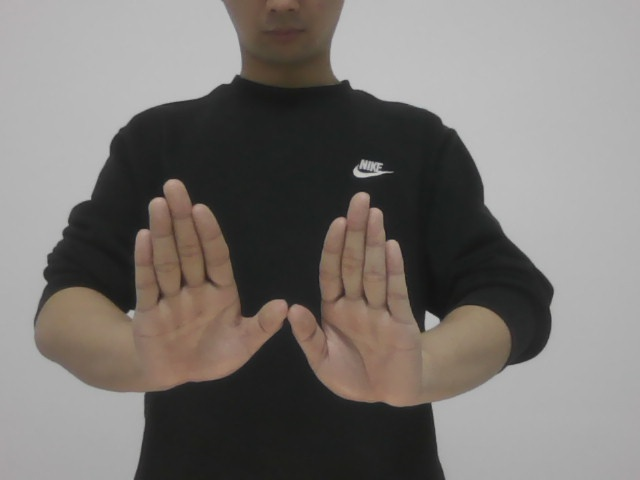door: (126, 166, 429, 419)
